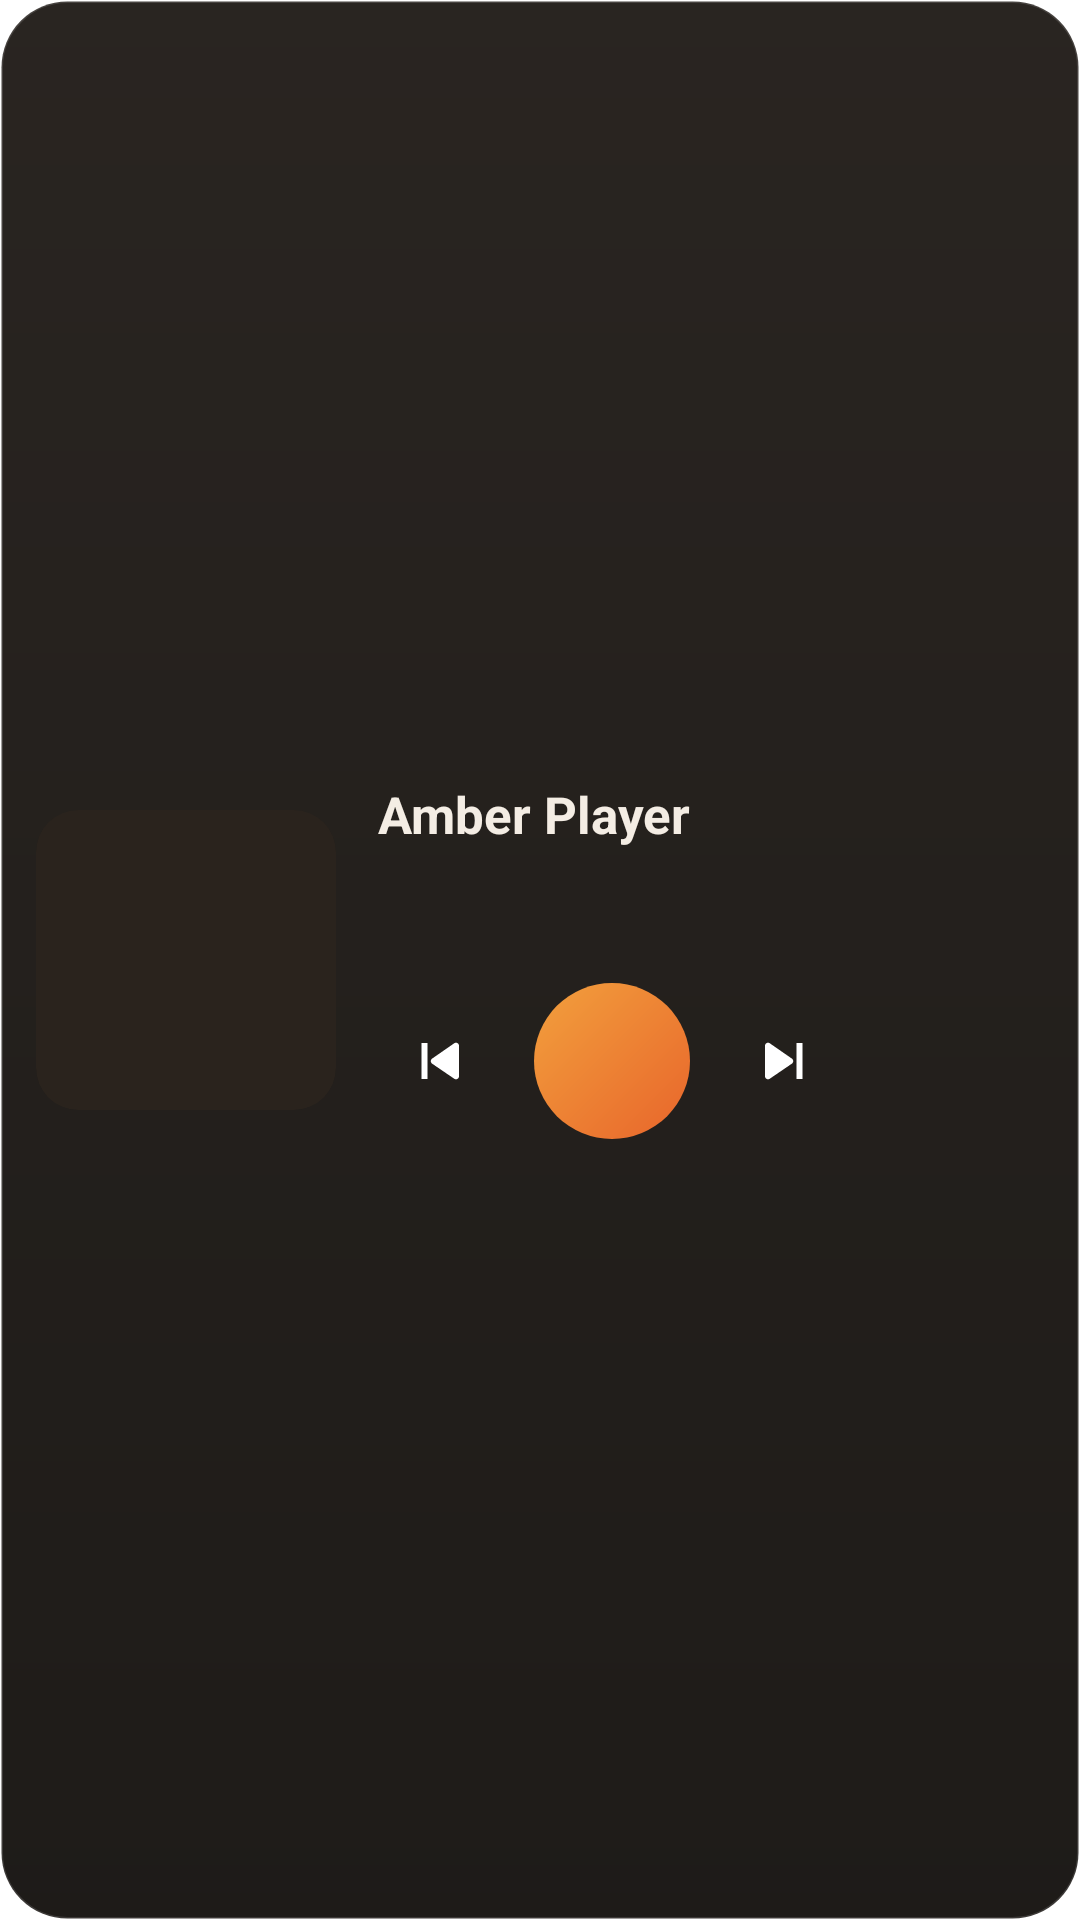

Locate icon controls on the screen. Image size 1080 × 1920, boxes as (x1, y1, x2, y2).
Next: (765, 1042, 803, 1080)
Previous: (421, 1042, 459, 1080)
